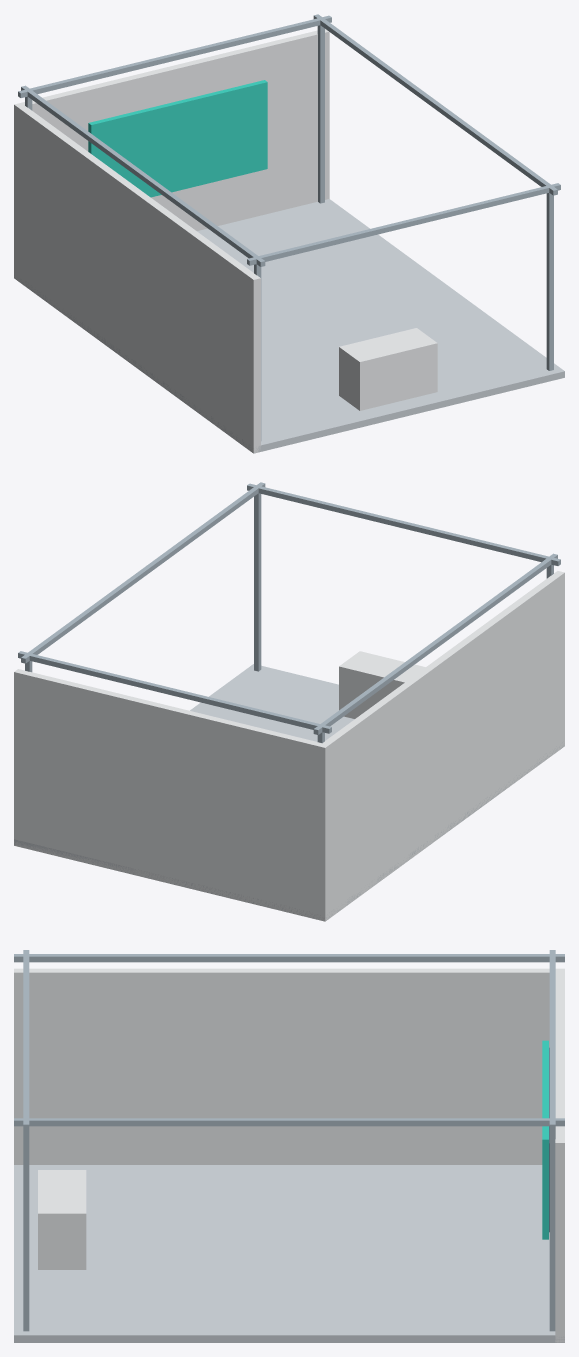
The picture shows the model from 3 angles, top to bottom: view 1: azimuth 30°, elevation 25°; view 2: azimuth 150°, elevation 25°; view 3: azimuth 270°, elevation 25°; orthographic projection. The views are drawn at different scales.
Parts seen in each view (by area): view 1: Exhibition Booth Concept; view 2: Exhibition Booth Concept; view 3: Exhibition Booth Concept.
Boxes of the visible parts, x1=… form: Exhibition Booth Concept: x1=14, y1=14, x2=564, y2=453; Exhibition Booth Concept: x1=14, y1=482, x2=564, y2=921; Exhibition Booth Concept: x1=14, y1=950, x2=564, y2=1342.
Bounding box in the file's own units: 6 × 3.49 × 8.
